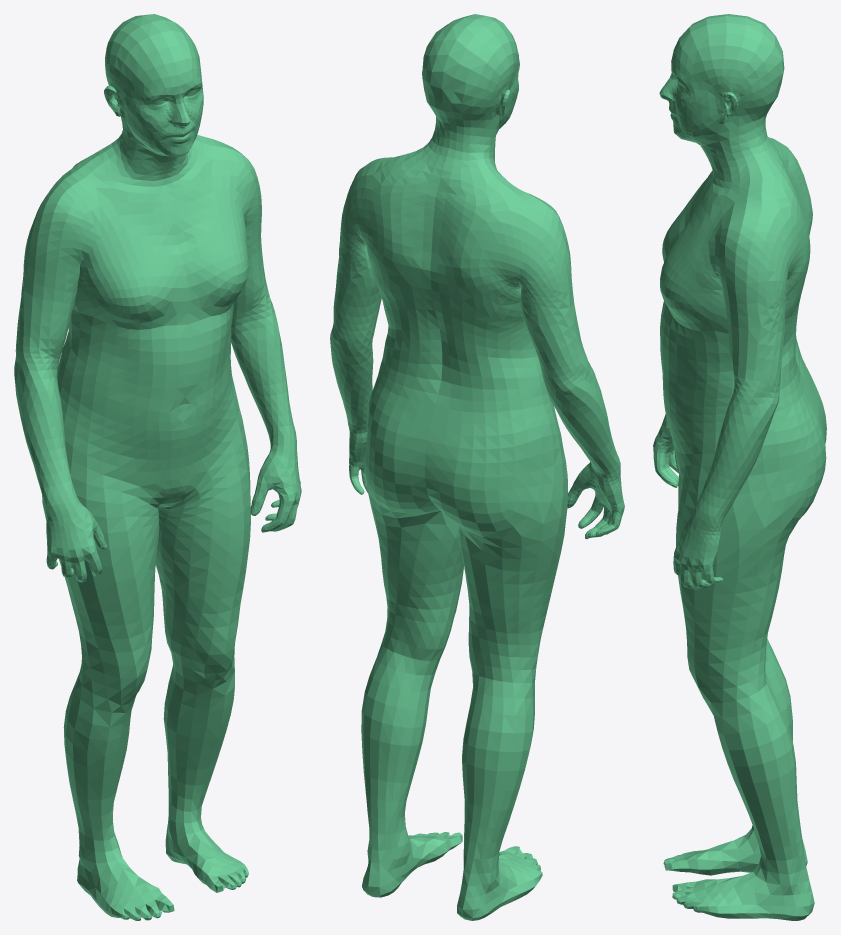
File: hwc_free_01.glb
3 views of the same model, side by side, from view 1: azimuth 30°, elevation 25°; view 2: azimuth 150°, elevation 25°; view 3: azimuth 270°, elevation 25° (orthographic).
Visible parts, largest first — view 1: hwc_free; view 2: hwc_free; view 3: hwc_free.
Part boxes in pixels (<box>): hwc_free: <box>14,14,301,920</box>; hwc_free: <box>330,14,624,920</box>; hwc_free: <box>653,14,826,920</box>.
Bounding box in the file's own units: 0.5389 × 1.71 × 0.3079.
